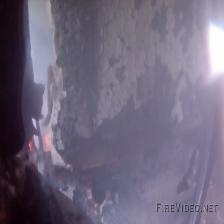fire: (25, 133, 56, 163)
